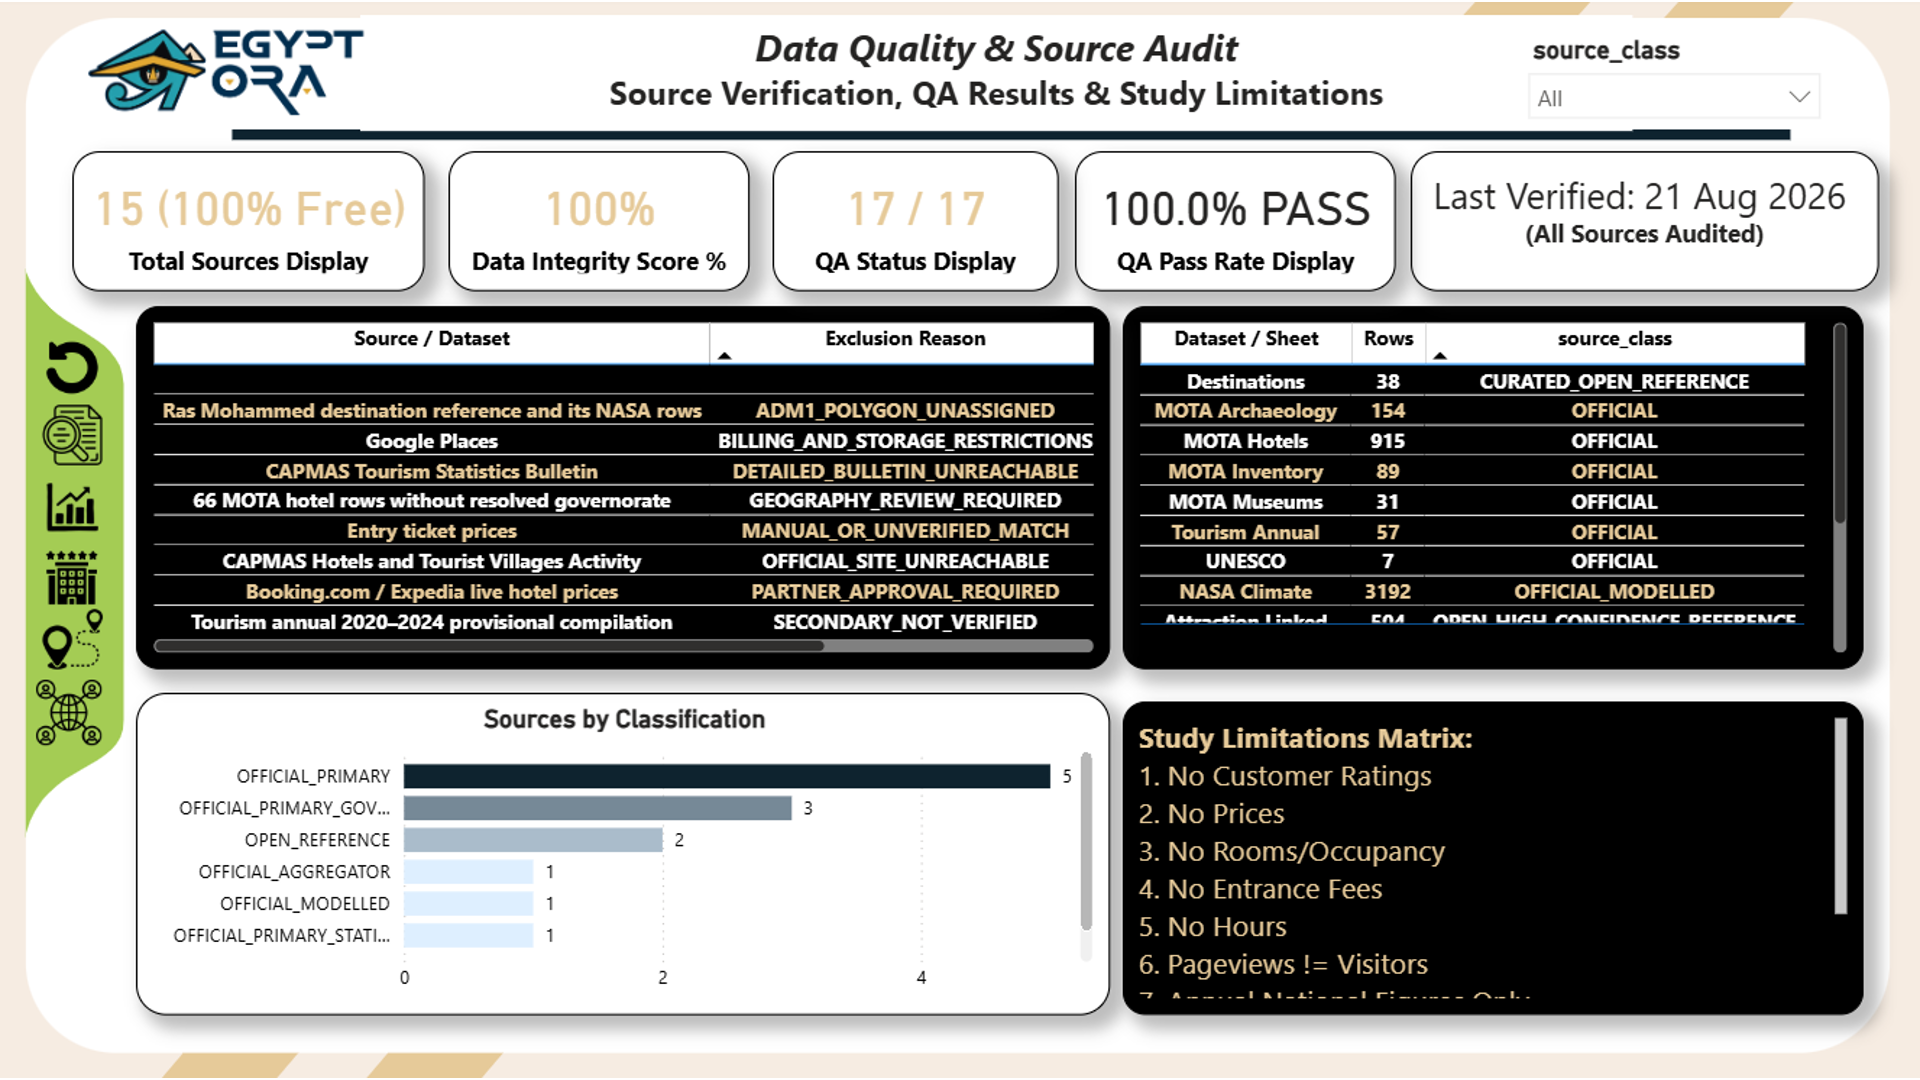

The page's visual inventory and layout, read from the dashboard file:
{"tool":"powerbi","page":{"name":"Data Quality & Methodology","canvas":[1280,720],"ordinal":5},"visuals":[{"type":"card","fields":{"Values":["_Key Measures (1).Total Sources Display"]},"box":[51.8,102.5,234,93.2],"z":0},{"type":"card","fields":{"Values":["_Key Measures (1).Data Integrity Score %"]},"box":[301.4,102.5,199.9,93.2],"z":1000},{"type":"clusteredBarChart","title":"Sources by Classification","fields":{"Category":["Sources.source_class"],"Y":["_Key Measures (1).Total Sources Count"]},"box":[94.2,461.9,647.2,214.4],"z":2000},{"type":"tableEx","title":"Source Inventory","fields":{"Values":["Datasets.sheet_name","Sum(Datasets.rows)","Datasets.source_class"]},"box":[749.8,206.1,491.9,241.3],"z":3000},{"type":"textbox","box":[749.8,468.1,491.9,208.2],"z":4000},{"type":"tableEx","title":"Excluded / Restricted Sources","fields":{"Values":["Excluded.source_or_dataset","Excluded.reason_code","Excluded.decision"]},"box":[94.2,206.1,647.2,241.3],"z":5000},{"type":"textbox","box":[940.3,102.5,310.7,93.2],"z":6000},{"type":"textbox","box":[243.4,12.4,845,76.6],"z":7000},{"type":"card","fields":{"Values":["_Key Measures (1).QA Pass Rate Display"]},"box":[717.7,102.5,213.3,93.2],"z":8000},{"type":"card","fields":{"Values":["_Key Measures (1).QA Status Display"]},"box":[516.8,102.5,189.5,93.2],"z":9000},{"type":"slicer","fields":{"Values":["Datasets.source_class"]},"box":[1009.4,19.9,213.8,60.5],"z":10000},{"type":"image","box":[26.5,265.8,50.1,50.1],"z":11000},{"type":"image","box":[23.7,316.9,55.8,43.5],"z":12000},{"type":"image","box":[23.7,360.4,55.8,51.1],"z":13000},{"type":"image","box":[21.8,402.1,60.5,50.1],"z":14000},{"type":"image","box":[21.8,447.5,55.8,54.9],"z":15000},{"type":"image","box":[14.2,0,273.1,96.7],"z":16000},{"type":"image","box":[18.6,220.8,67.4,51.4],"z":17000}]}

Visuals, with their boxes in screenshot pixels (x1, y1, x2, y2), scaled from the page's 1280x720 canvas onto the 1920x1080 screenshot:
card - _Key Measures (1).Total Sources Display: [78, 154, 429, 294]
card - _Key Measures (1).Data Integrity Score %: [452, 154, 752, 294]
"Sources by Classification" clusteredBarChart: [141, 693, 1112, 1014]
"Source Inventory" tableEx: [1125, 309, 1863, 671]
textbox: [1125, 702, 1863, 1014]
"Excluded / Restricted Sources" tableEx: [141, 309, 1112, 671]
textbox: [1410, 154, 1876, 294]
textbox: [365, 19, 1633, 134]
card - _Key Measures (1).QA Pass Rate Display: [1077, 154, 1396, 294]
card - _Key Measures (1).QA Status Display: [775, 154, 1059, 294]
slicer - Datasets.source_class: [1514, 30, 1835, 121]
image: [40, 399, 115, 474]
image: [36, 475, 119, 541]
image: [36, 541, 119, 617]
image: [33, 603, 123, 678]
image: [33, 671, 116, 754]
image: [21, 0, 431, 145]
image: [28, 331, 129, 408]
